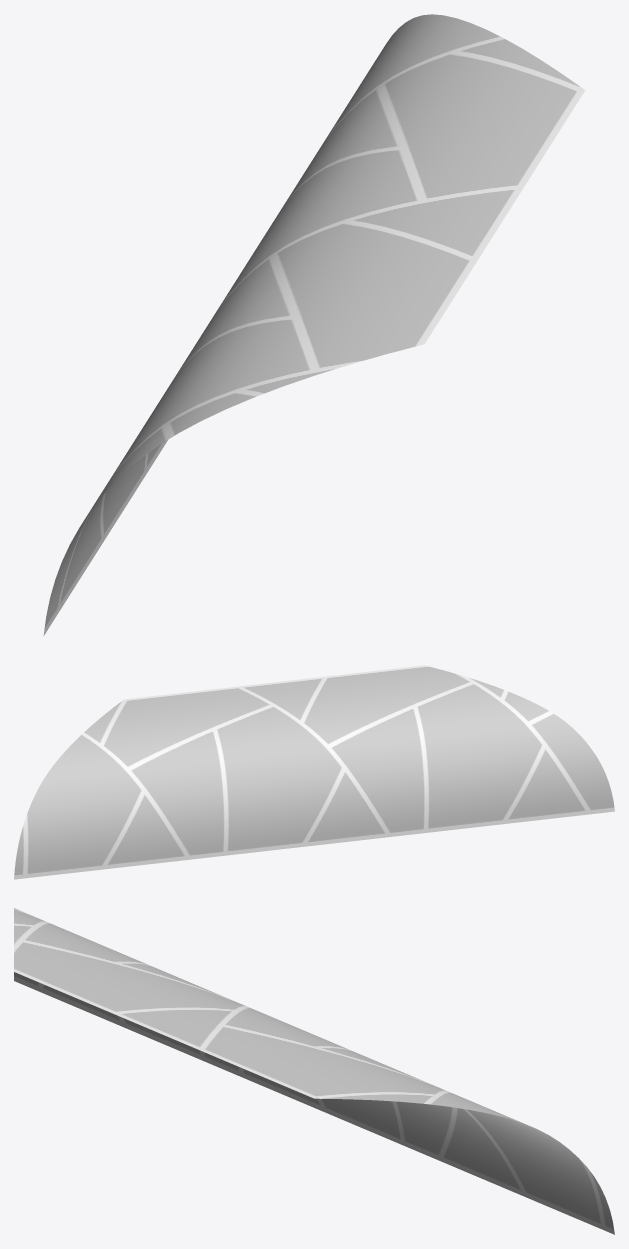
File: Ceiling04_45Deg700x700x175cm.FBX
3 views of the same model, one above another, from view 1: azimuth 30°, elevation 25°; view 2: azimuth 150°, elevation 25°; view 3: azimuth 270°, elevation 25° (orthographic). The views are drawn at different scales.
Parts seen in each view (by area): view 1: Ceiling04_45Deg700x700x175cm; view 2: Ceiling04_45Deg700x700x175cm; view 3: Ceiling04_45Deg700x700x175cm.
Boxes of the visible parts, <box> form: Ceiling04_45Deg700x700x175cm: <box>43,14,585,635</box>; Ceiling04_45Deg700x700x175cm: <box>14,665,614,879</box>; Ceiling04_45Deg700x700x175cm: <box>14,908,614,1234</box>.
Size of the model in its own units: 700 by 175 by 700.
